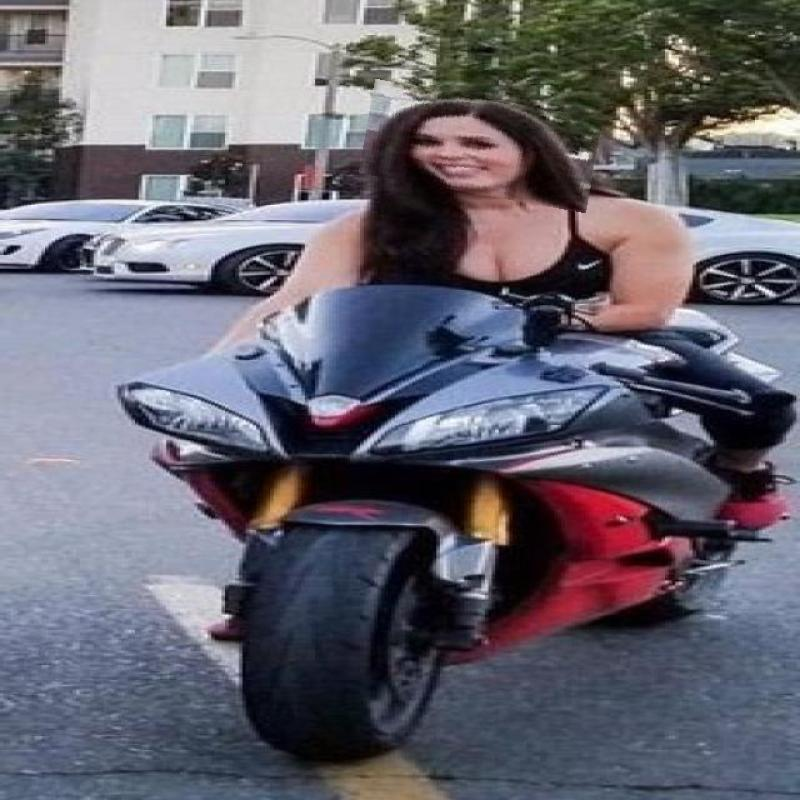nohelmet: (362, 88, 599, 204)
